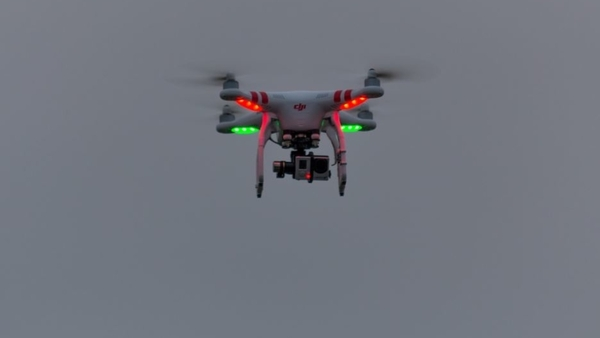drone: (205, 66, 401, 202)
